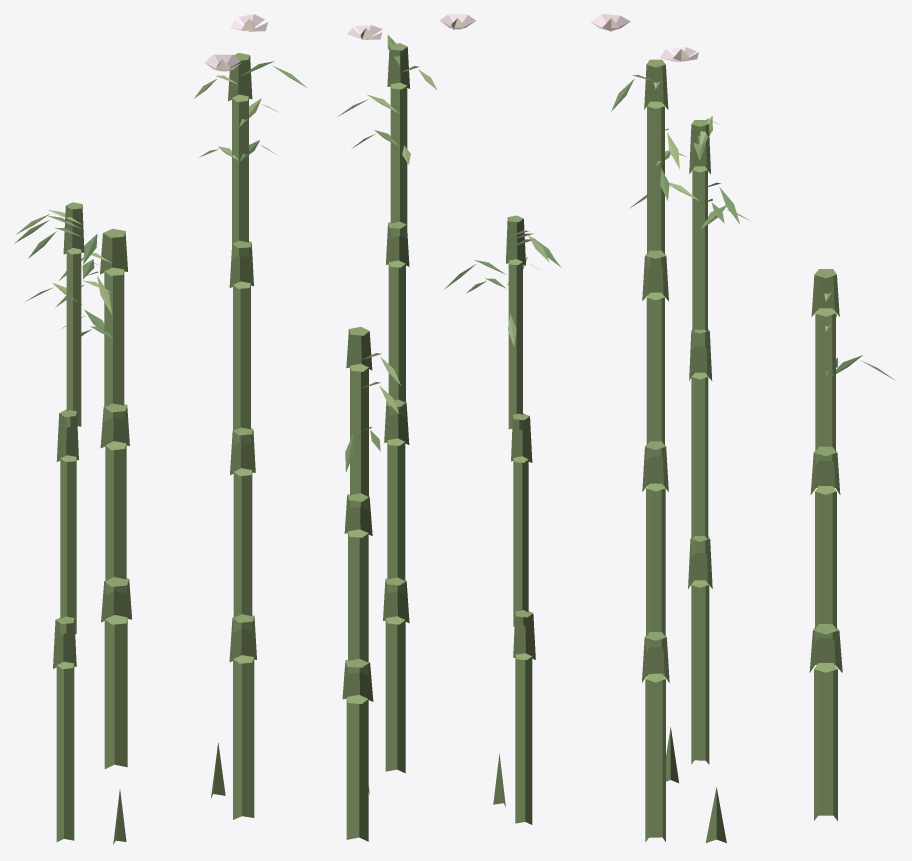
The model's file is shu.maozhu__bloom.glb.
3 renders of one model, left to right at view 1: azimuth 30°, elevation 25°; view 2: azimuth 150°, elevation 25°; view 3: azimuth 270°, elevation 25°, orthographic. The views are drawn at different scales.
Visible parts, largest first — view 1: shu.maozhu__bloom; view 2: shu.maozhu__bloom; view 3: shu.maozhu__bloom.
Boxes of the visible parts, x1,y1,x2,y2 form: shu.maozhu__bloom: (14,14,306,844); shu.maozhu__bloom: (338,14,561,841); shu.maozhu__bloom: (590,14,895,843).
Size of the model in its own units: 3.12 by 9.36 by 3.25.
